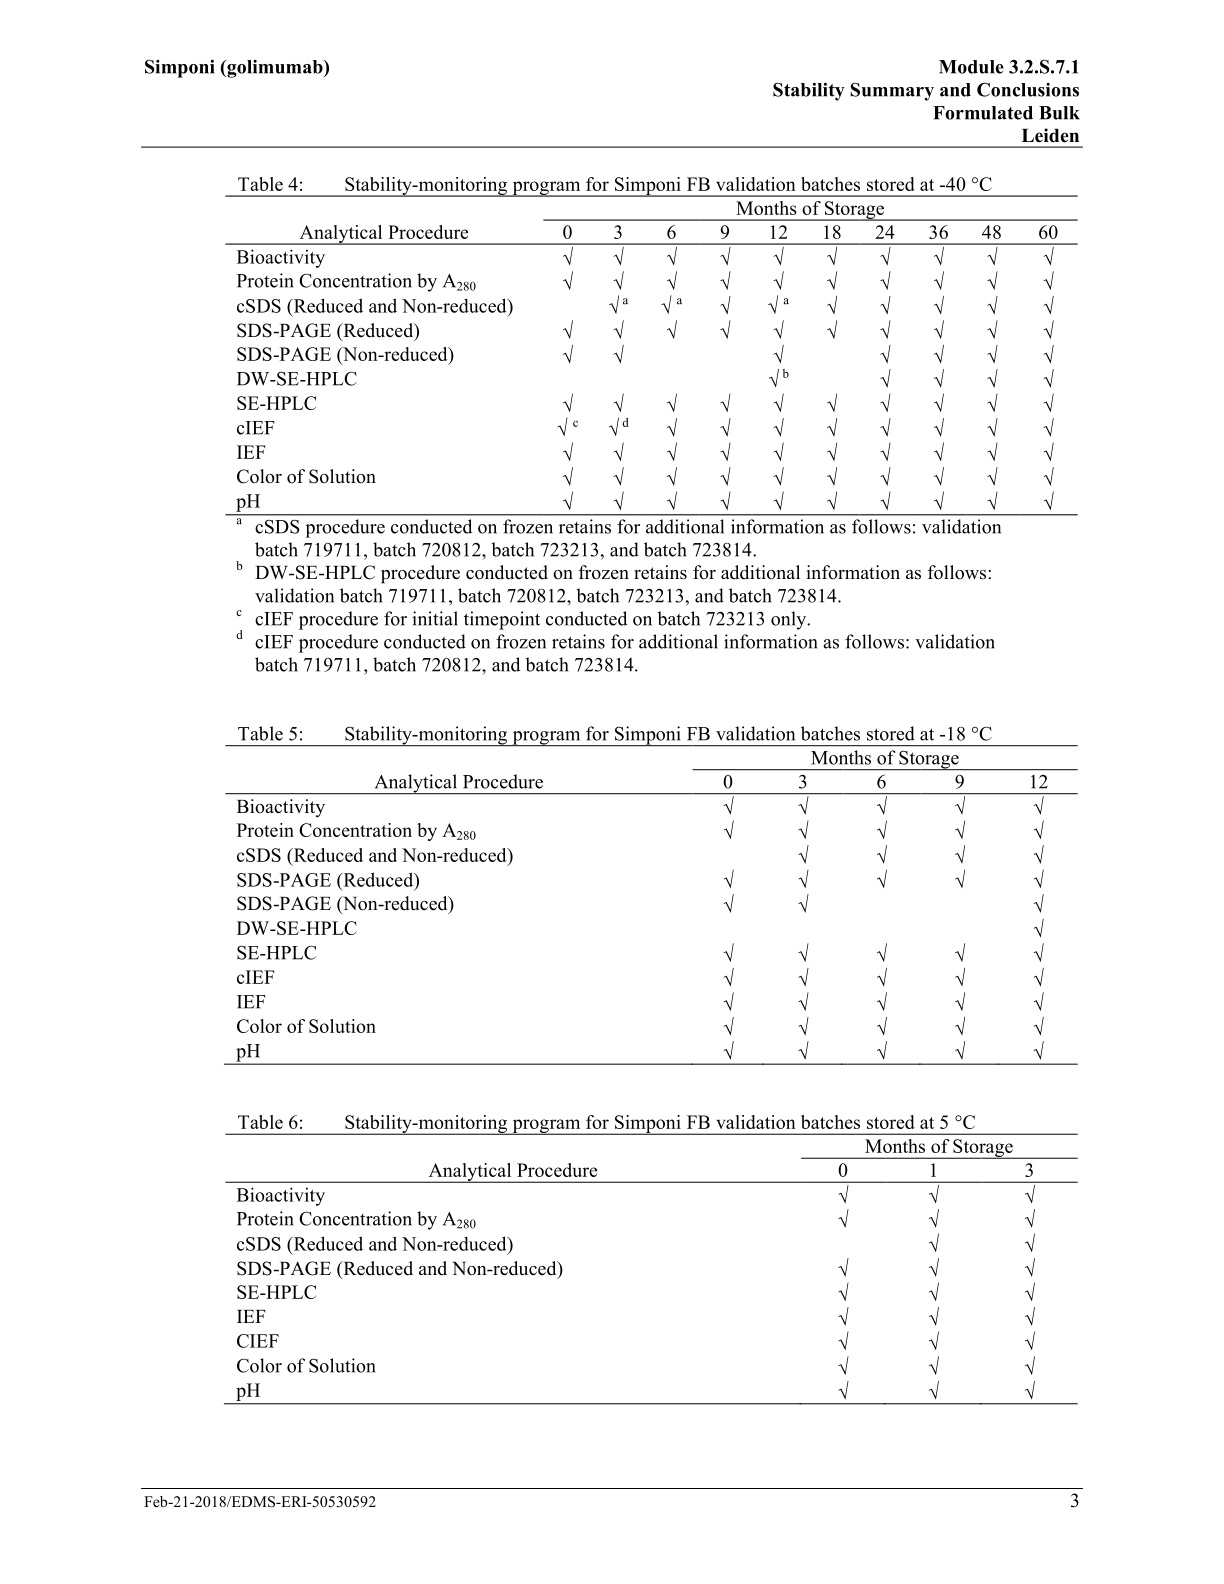partial_lined_merged_cells: (224, 194, 1079, 517), (222, 744, 1079, 1066), (222, 1133, 1080, 1405)
